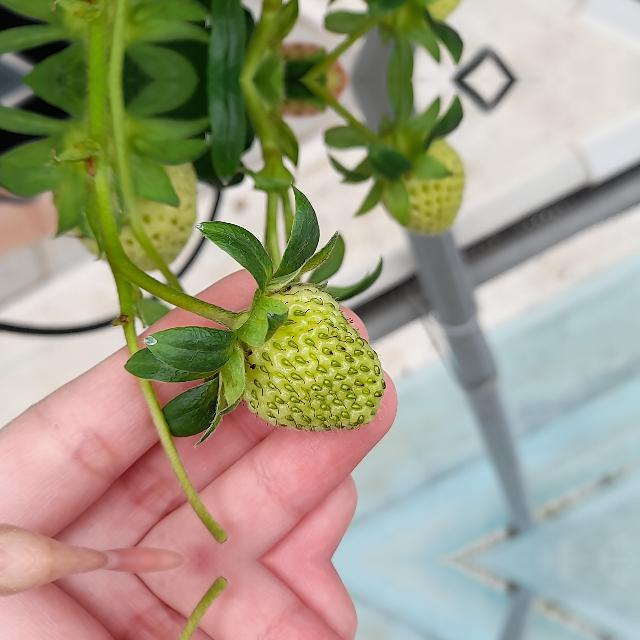Health_25: (242, 284, 386, 432), (372, 132, 471, 232), (371, 0, 470, 28)
